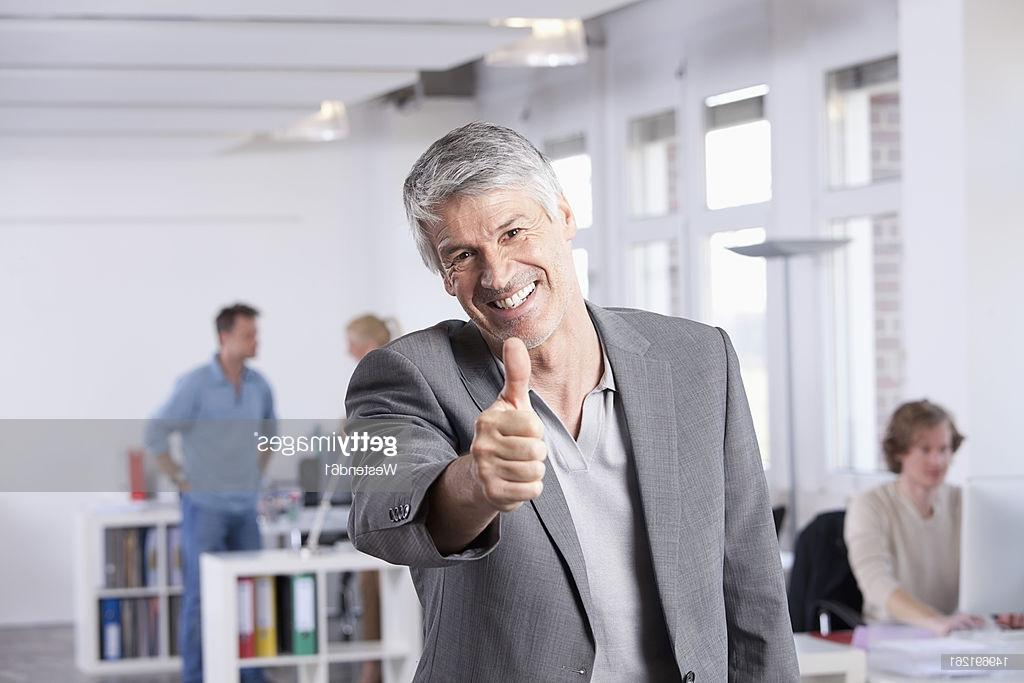thumbsup: (469, 337, 549, 504)
